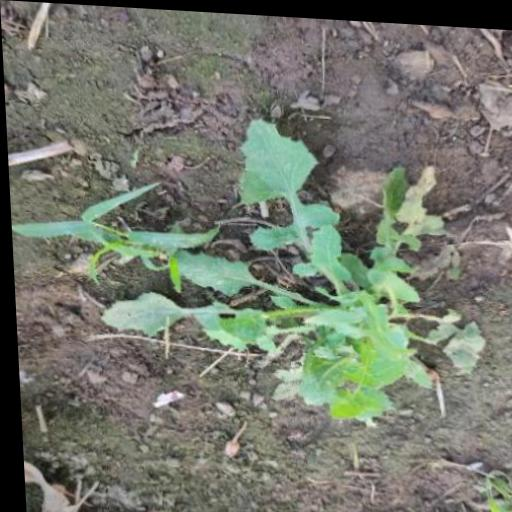weed: (55, 107, 479, 421)
